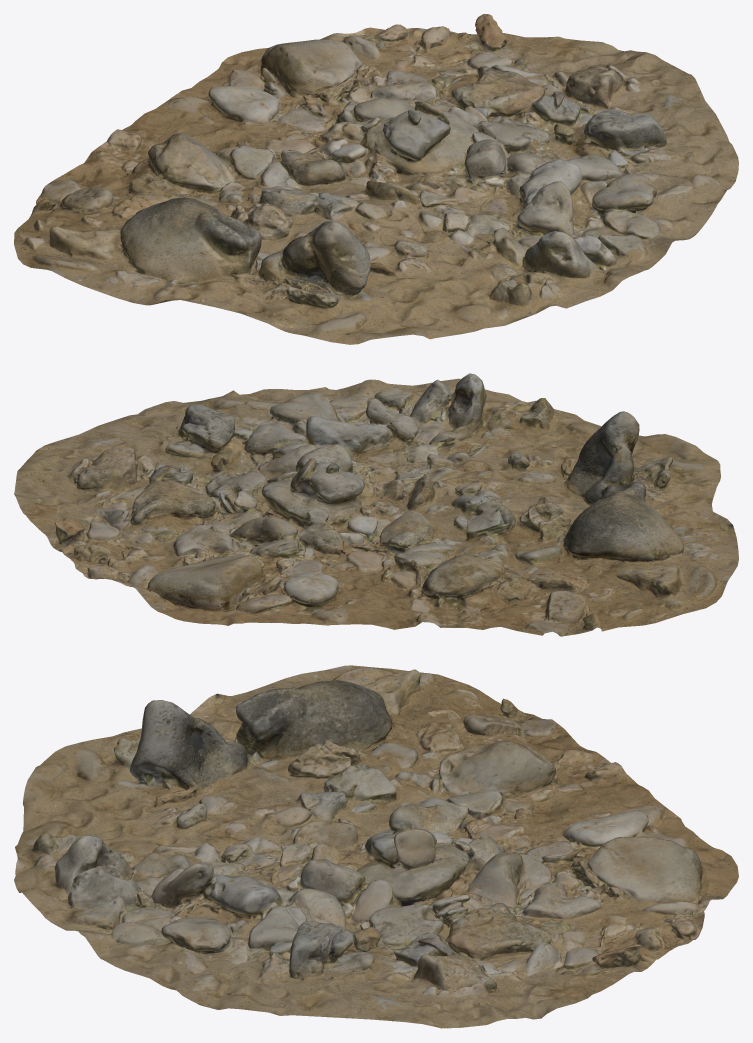
File: sand_rocks_small_01_mid.glb
3 views of the same model, one above another, from view 1: azimuth 30°, elevation 25°; view 2: azimuth 150°, elevation 25°; view 3: azimuth 270°, elevation 25° (orthographic). The views are drawn at different scales.
Bounding box in the file's own units: 4.63 × 0.532 × 3.88.
Materials: 1 (1 with a texture image).
